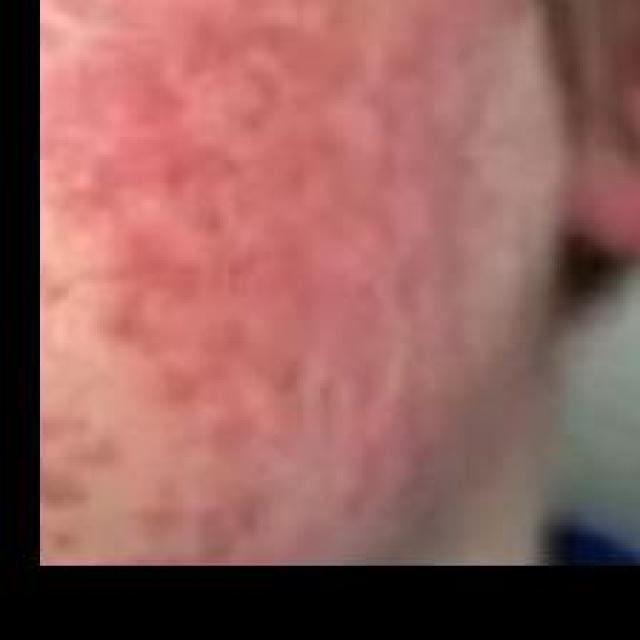others: (39, 1, 640, 554)
